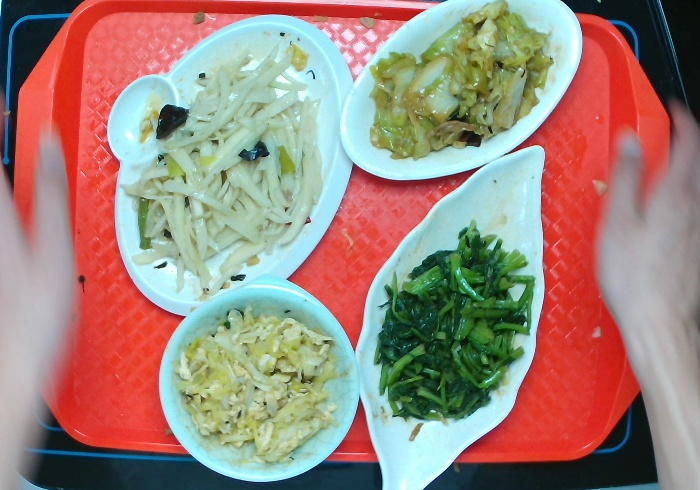RJxy-Bai_Se_Tuo_Yuan: (334, 1, 587, 179)
RJxy-Shu_Ye_Pan: (353, 141, 553, 490)
RJxy-Xiao_Jiao_Yuan_Wan: (152, 272, 362, 488)
RJxy-Zhan_Liao_Pan: (106, 15, 358, 313)
